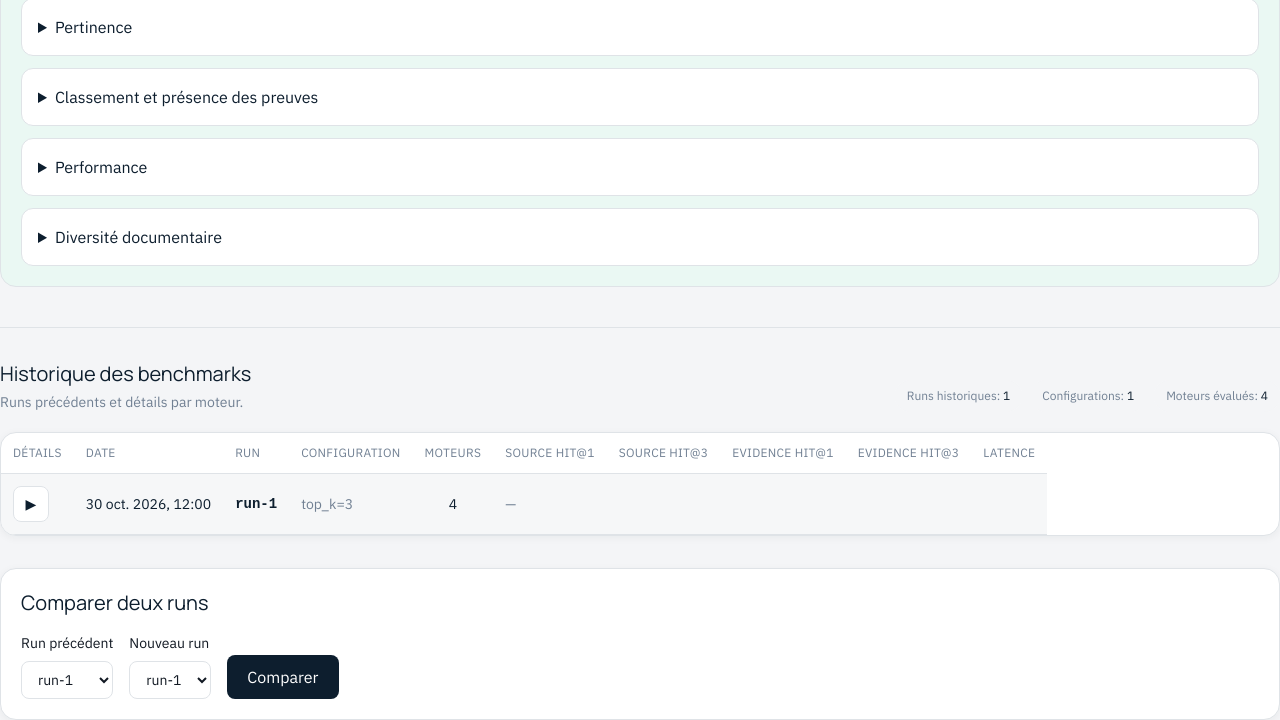
Scenario: EvaluationPage › expands the four engine rows with their metrics and collapses them again
(page scrolled)
Click the button named "Développer les moteurs du run run-1". click: (31, 504)
box: [13,486,49,522]
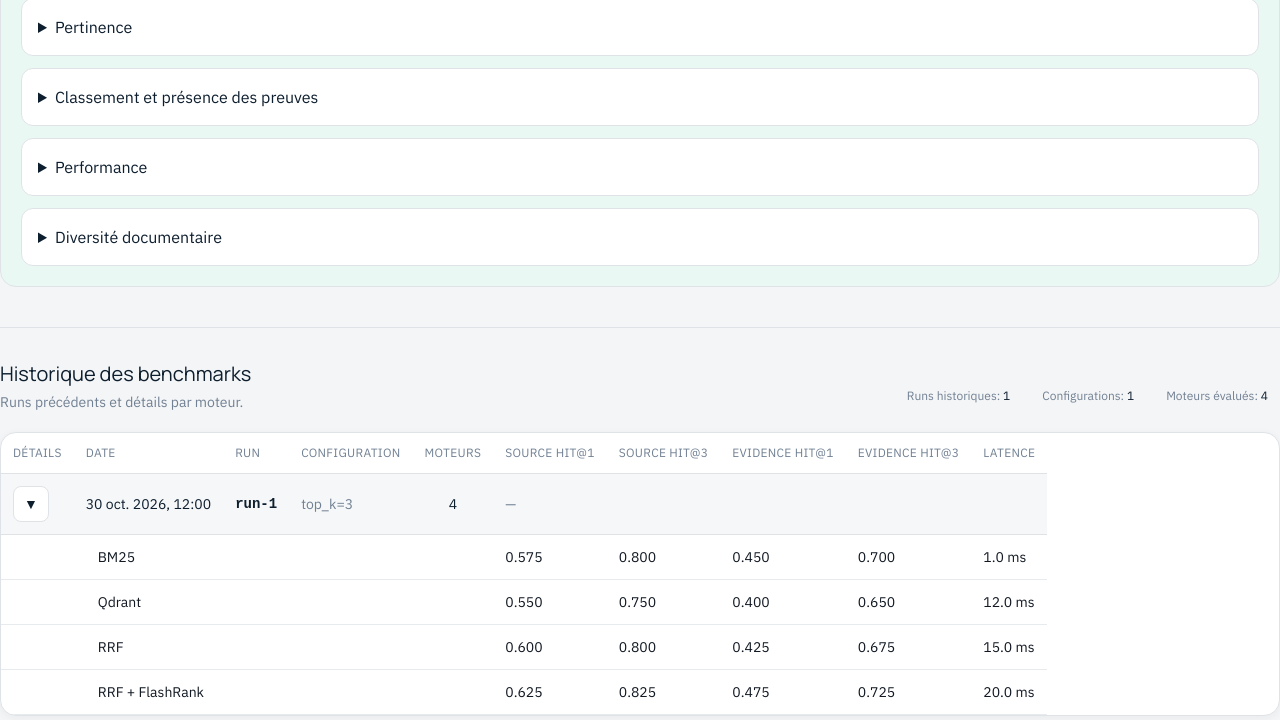
Expected: the text "0.575" is shown, [493,534,607,580]
Expected: the text "0.800" in the row of "BM25" is shown, [619,548,656,566]
Expected: the text "0.450" is shown, [720,534,846,580]
Click the button named "Réduire les moteurs du run run-1". click: (31, 504)
box: [13,486,49,522]
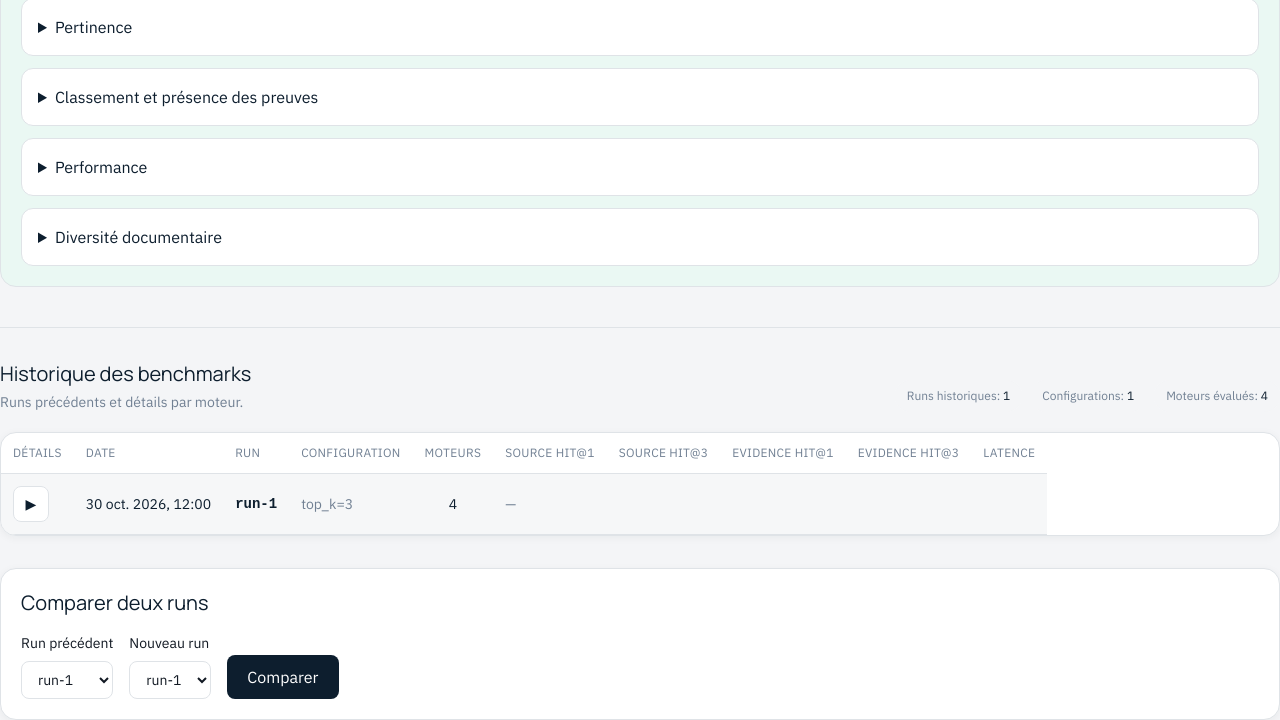
Expected: the number of rows is 2, [1,433,1047,474]; [1,474,1047,534]
Expected: the column heading "BM25" is gone
